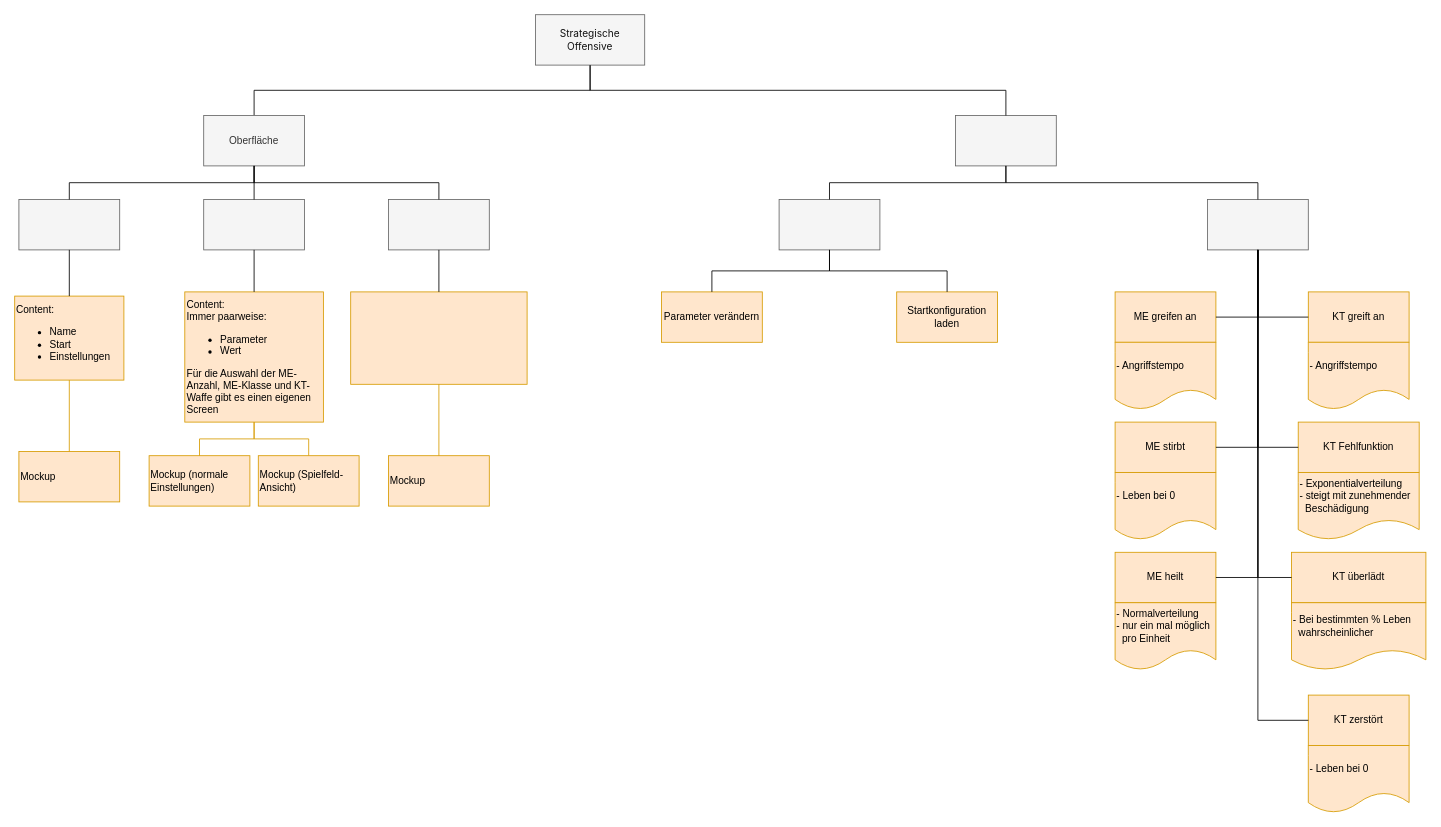
This 1441x827 diagram has some shape labels left out. The centre of each missing label's shape, as x and y in pixels:
Content: 4 Platzierungsplätze Manche mit Deckung Turm in der Mitte: point 438,337
Einstellungen: point 829,224
Einstellungs-Ansicht: point 253,224
Funktionen: point 1005,140
Simulation: point 1257,224
Simulations-Ansicht: point 438,224
Startbildschirm: point 69,224
